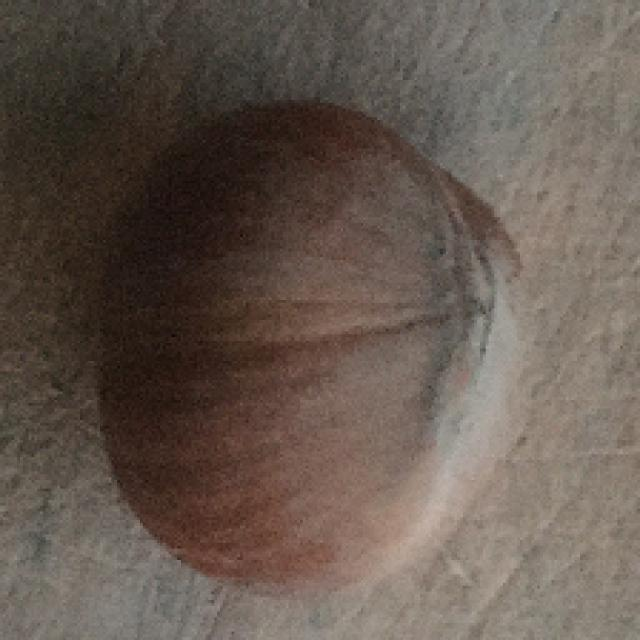qualityHazelnut: (100, 93, 524, 602)
